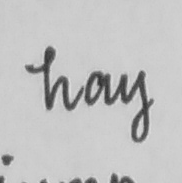a: (82, 68, 112, 107)
h: (40, 43, 74, 113)
y: (116, 67, 154, 145)
